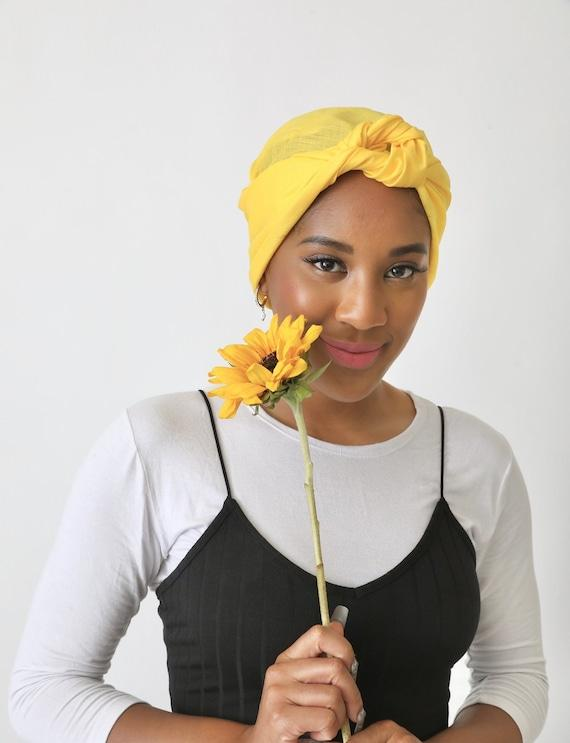cap: (236, 84, 476, 308)
